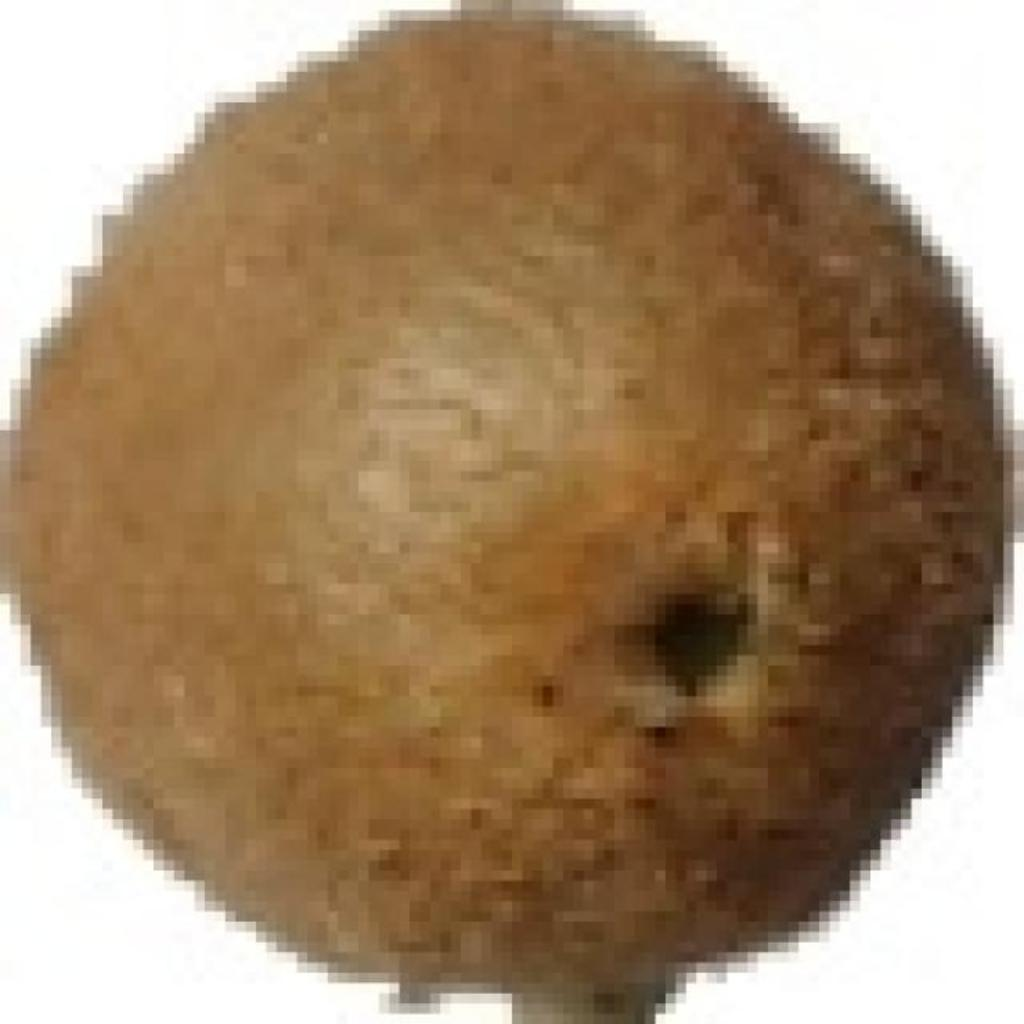kiwi: (17, 11, 990, 1015)
